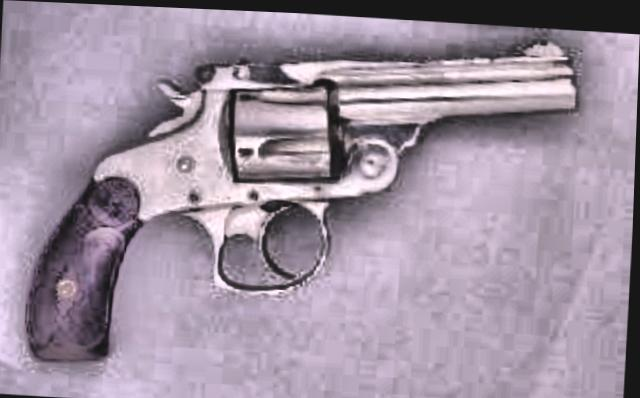pistol: (12, 1, 581, 394)
